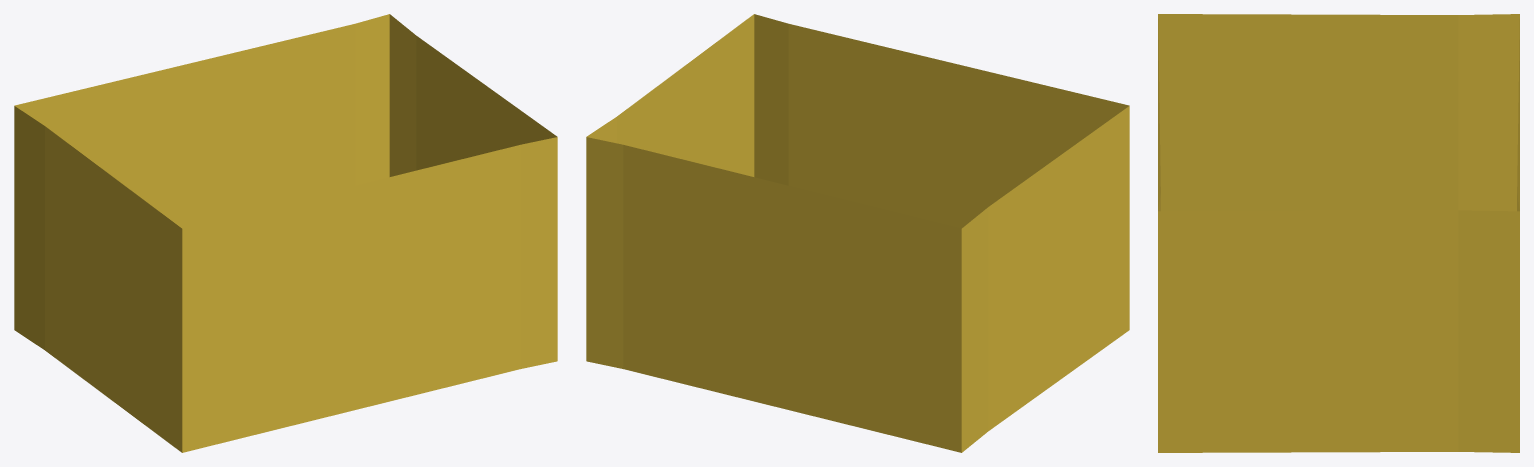
Rendered from Building3_Middel.fbx.
3 renders of one model, left to right at view 1: azimuth 30°, elevation 25°; view 2: azimuth 150°, elevation 25°; view 3: azimuth 270°, elevation 25°, orthographic. The views are drawn at different scales.
Parts seen in each view (by area): view 1: Building3_Middel; view 2: Building3_Middel; view 3: Building3_Middel.
Part boxes in pixels (<box>): Building3_Middel: <box>14,14,557,452</box>; Building3_Middel: <box>586,14,1129,452</box>; Building3_Middel: <box>1158,14,1519,452</box>.
Size of the model in its own units: 205 by 117 by 159.
